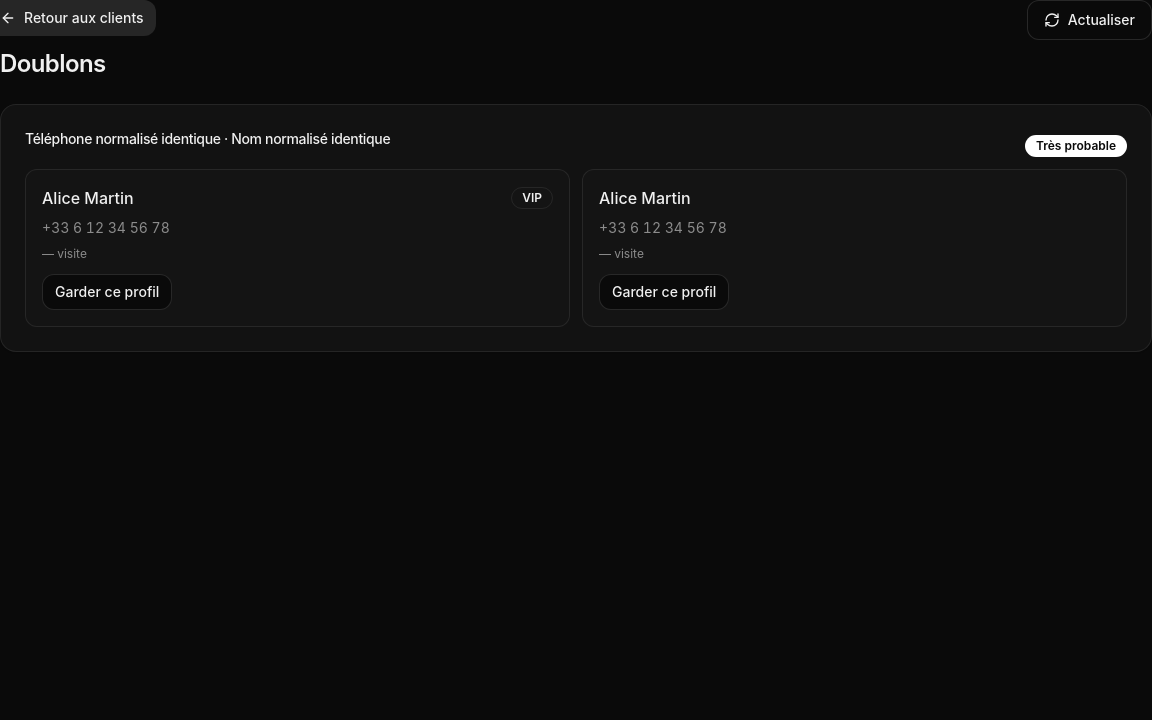
Test: CustomerDuplicatesPage › prévisualise une paire, exige la résolution puis envoie une clé idempotente
This screenshot has width=1152, height=720.
Expected: the text "Téléphone normalisé identique · Nom normalisé identique" is shown, [25, 129, 390, 149]
Click the 1st button "Garder ce profil" at [107, 292], box [42, 274, 172, 310]
(page scrolled)
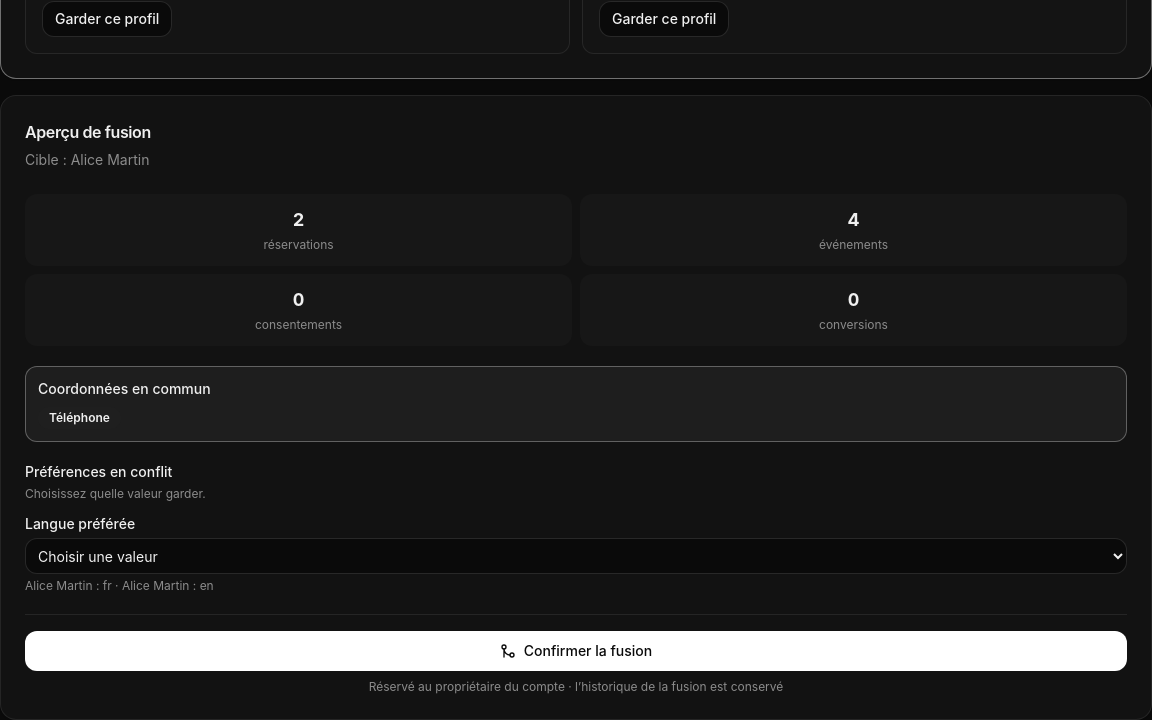
Result: the text "Préférences en conflit" is shown at [25, 463, 172, 480]
Result: the text "Langue préférée" is shown at [25, 515, 135, 532]
Select "Garder la plus récente" in the dropdown named "Valeur à garder : Langue préférée" at [576, 556], box [25, 538, 1127, 574]
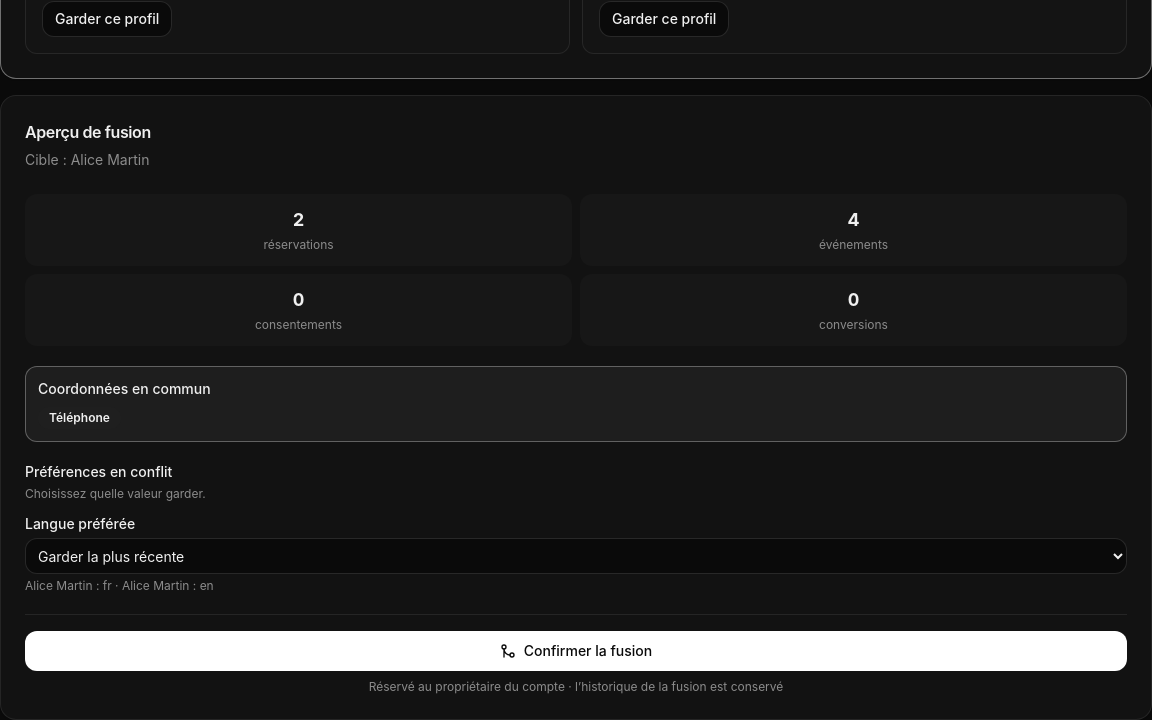
Click the button "Confirmer la fusion" at [576, 651], box [25, 631, 1127, 671]
(page scrolled)
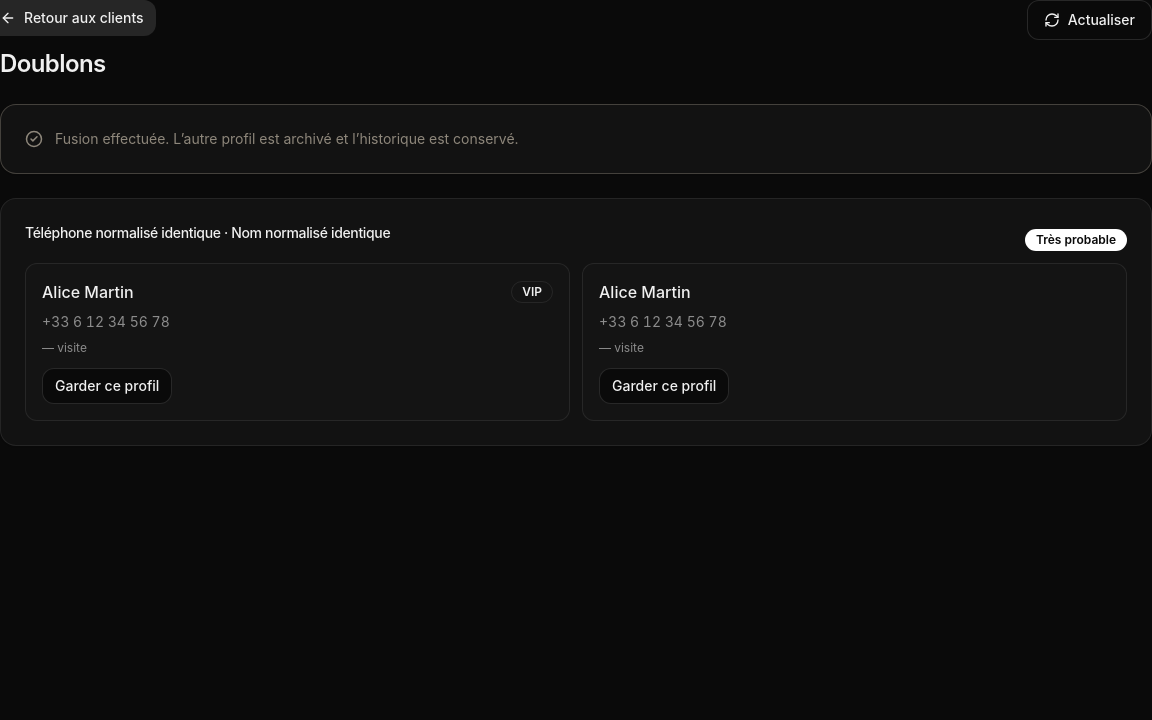
Result: the text "Fusion effectuée" is shown at [55, 130, 519, 147]
